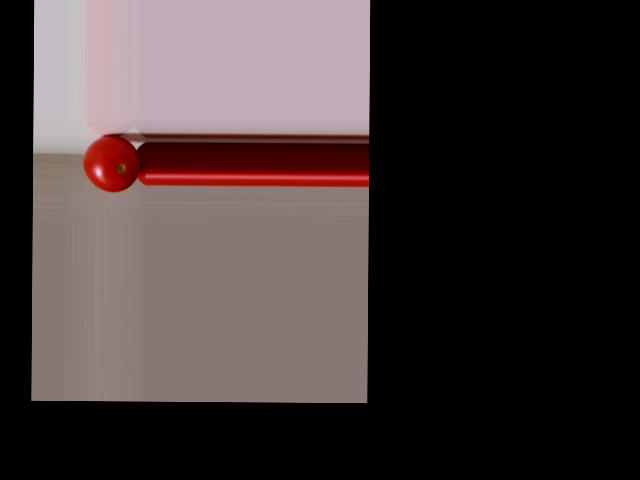tomato: (83, 135, 139, 192)
